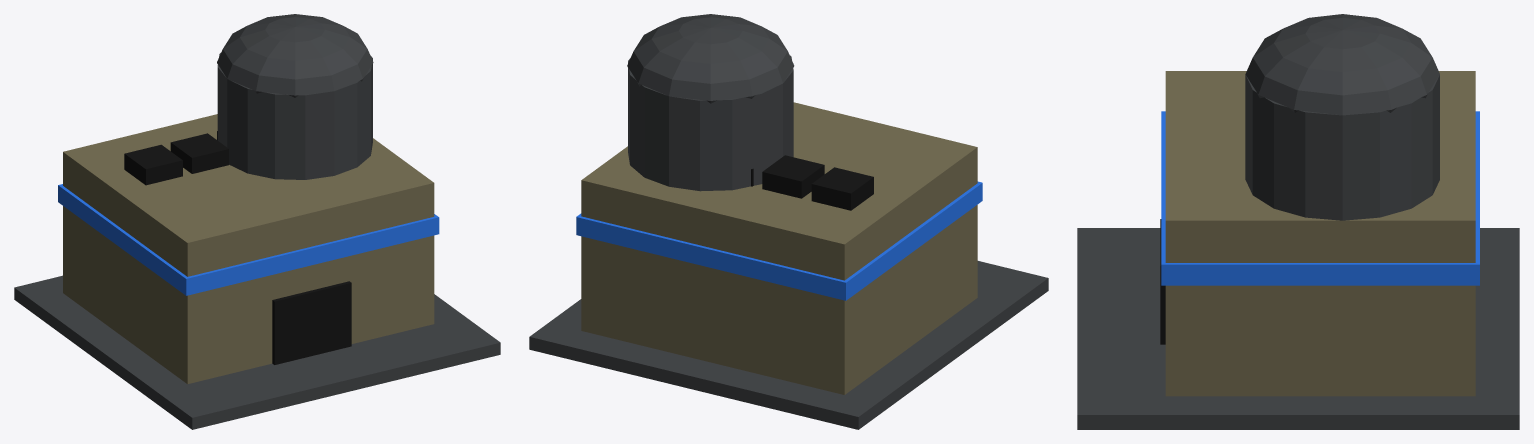
The model's file is us_microreactor.glb.
The picture shows the model from 3 angles, left to right: view 1: azimuth 30°, elevation 25°; view 2: azimuth 150°, elevation 25°; view 3: azimuth 270°, elevation 25°; orthographic projection. The views are drawn at different scales.
Parts seen in each view (by area): view 1: main, base, reactor_drum, reactor_cap, team_band, door, vent_0, vent_1; view 2: main, base, reactor_drum, reactor_cap, team_band, vent_0, vent_1; view 3: main, base, reactor_drum, reactor_cap, team_band, door.
Part boxes in pixels (left/top/right/bottom): main: left=63, top=114, right=434, bottom=384; base: left=14, top=275, right=500, bottom=429; reactor_drum: left=217, top=53, right=372, bottom=179; reactor_cap: left=217, top=14, right=373, bottom=97; team_band: left=58, top=184, right=439, bottom=295; door: left=272, top=281, right=351, bottom=364; vent_0: left=124, top=144, right=182, bottom=185; vent_1: left=170, top=133, right=228, bottom=173; main: left=581, top=102, right=977, bottom=394; base: left=529, top=261, right=1048, bottom=429; reactor_drum: left=628, top=55, right=793, bottom=191; reactor_cap: left=627, top=14, right=794, bottom=103; team_band: left=576, top=181, right=982, bottom=300; vent_0: left=811, top=167, right=873, bottom=210; vent_1: left=762, top=155, right=824, bottom=198; main: left=1165, top=71, right=1475, bottom=396; base: left=1077, top=228, right=1519, bottom=429; reactor_drum: left=1245, top=74, right=1439, bottom=220; reactor_cap: left=1245, top=14, right=1439, bottom=115; team_band: left=1161, top=111, right=1479, bottom=285; door: left=1160, top=219, right=1165, bottom=344.
Size of the model in its own units: 8 by 6.78 by 8.
